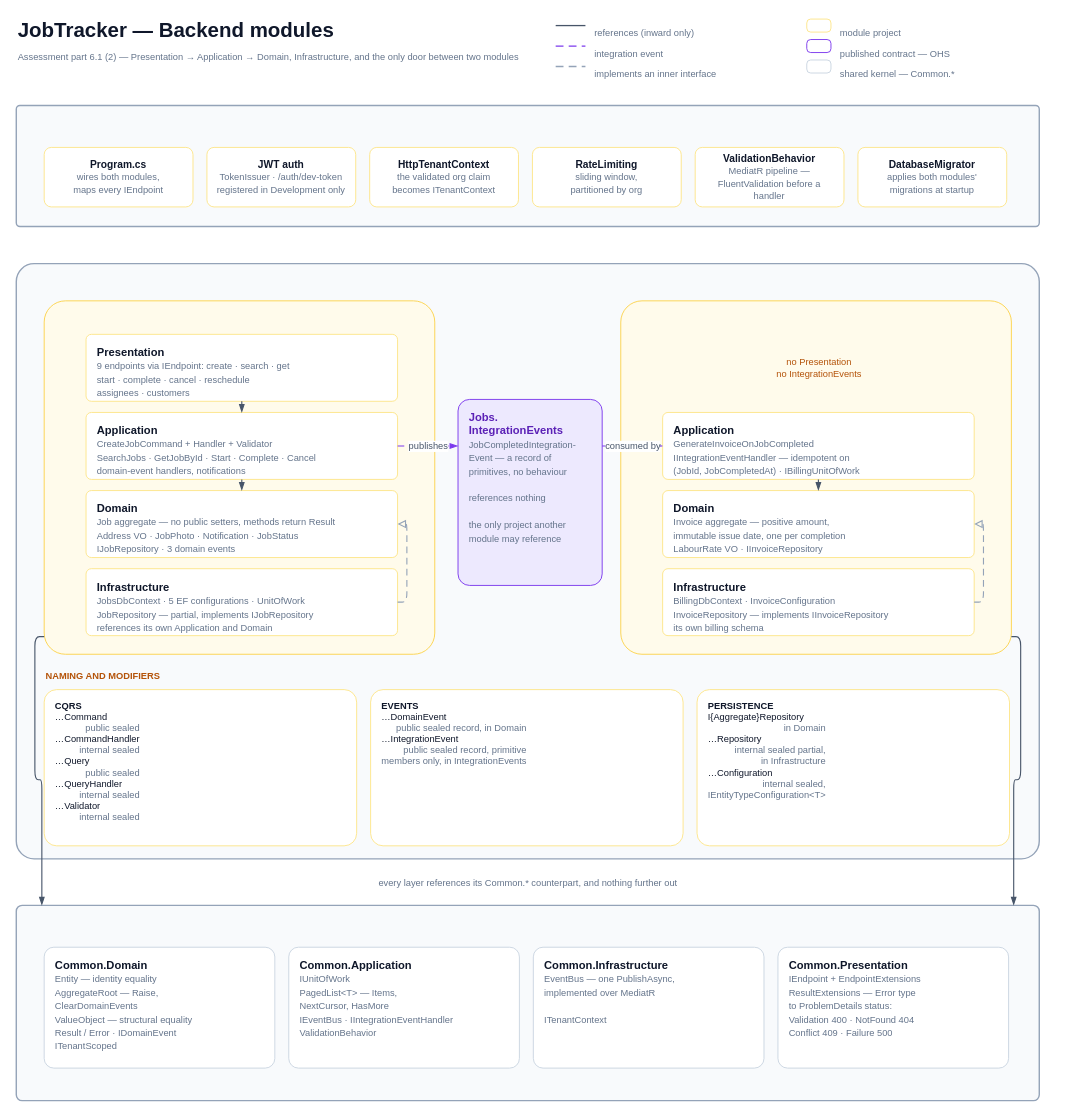
The diagram is 1078 pixels wide and 1117 high, and some of its shapes have lost their labels. Here are the shapes that lost their labels. From the top down, the box of each, then its label:
(15, 104, 1040, 227): 1 · JobTracker.Api — THE COMPOSITION ROOT
(43, 300, 435, 654): JOBS MODULE
(620, 300, 1011, 654): BILLING MODULE
(15, 263, 1040, 859): 2 · MODULE ANATOMY — five projects in Jobs, three in Billing
(15, 904, 1040, 1101): 3 · SHARED KERNEL — Common.*
